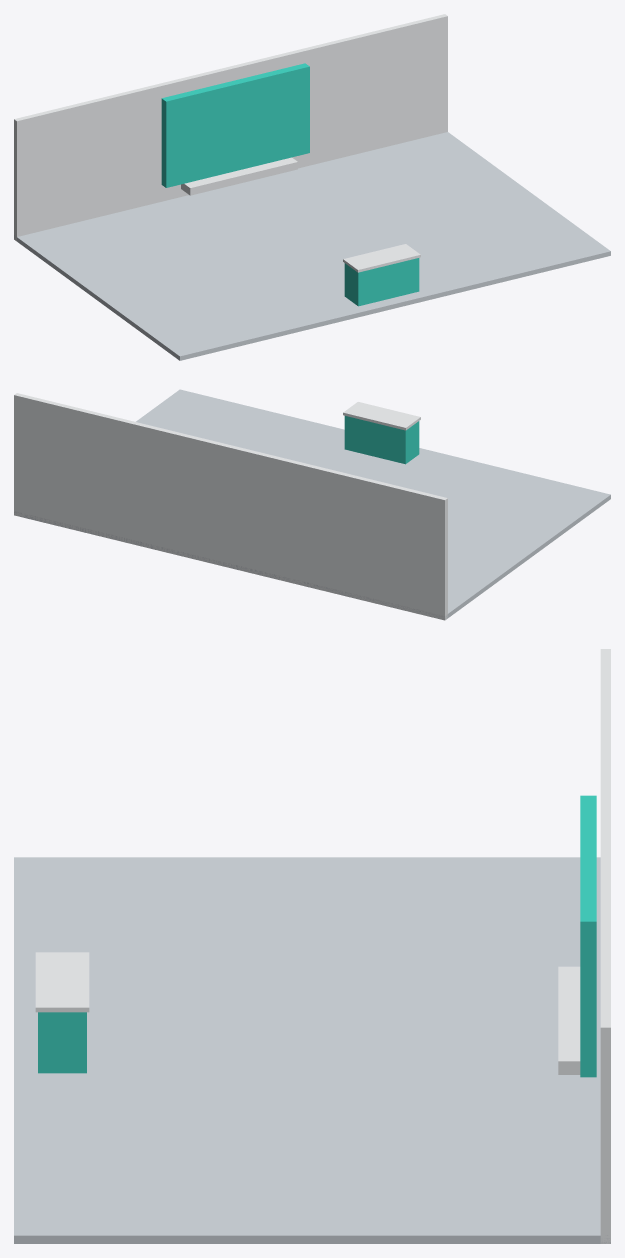
3 views of the same model, one above another, from view 1: azimuth 30°, elevation 25°; view 2: azimuth 150°, elevation 25°; view 3: azimuth 270°, elevation 25° (orthographic). The views are drawn at different scales.
Visible parts, largest first — view 1: Exhibition Booth Concept; view 2: Exhibition Booth Concept; view 3: Exhibition Booth Concept.
Part boxes in pixels (bbox=[...]): Exhibition Booth Concept: bbox=[14, 14, 610, 360]; Exhibition Booth Concept: bbox=[14, 389, 610, 620]; Exhibition Booth Concept: bbox=[14, 649, 610, 1243].
Size of the model in its own units: 12 by 3.2 by 8.
